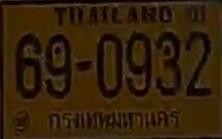0: (96, 32, 122, 96)
2: (185, 30, 211, 96)
3: (155, 31, 181, 95)
6: (15, 32, 41, 98)
9: (45, 32, 71, 98), (126, 31, 151, 95)
BKK: (45, 108, 185, 132)
